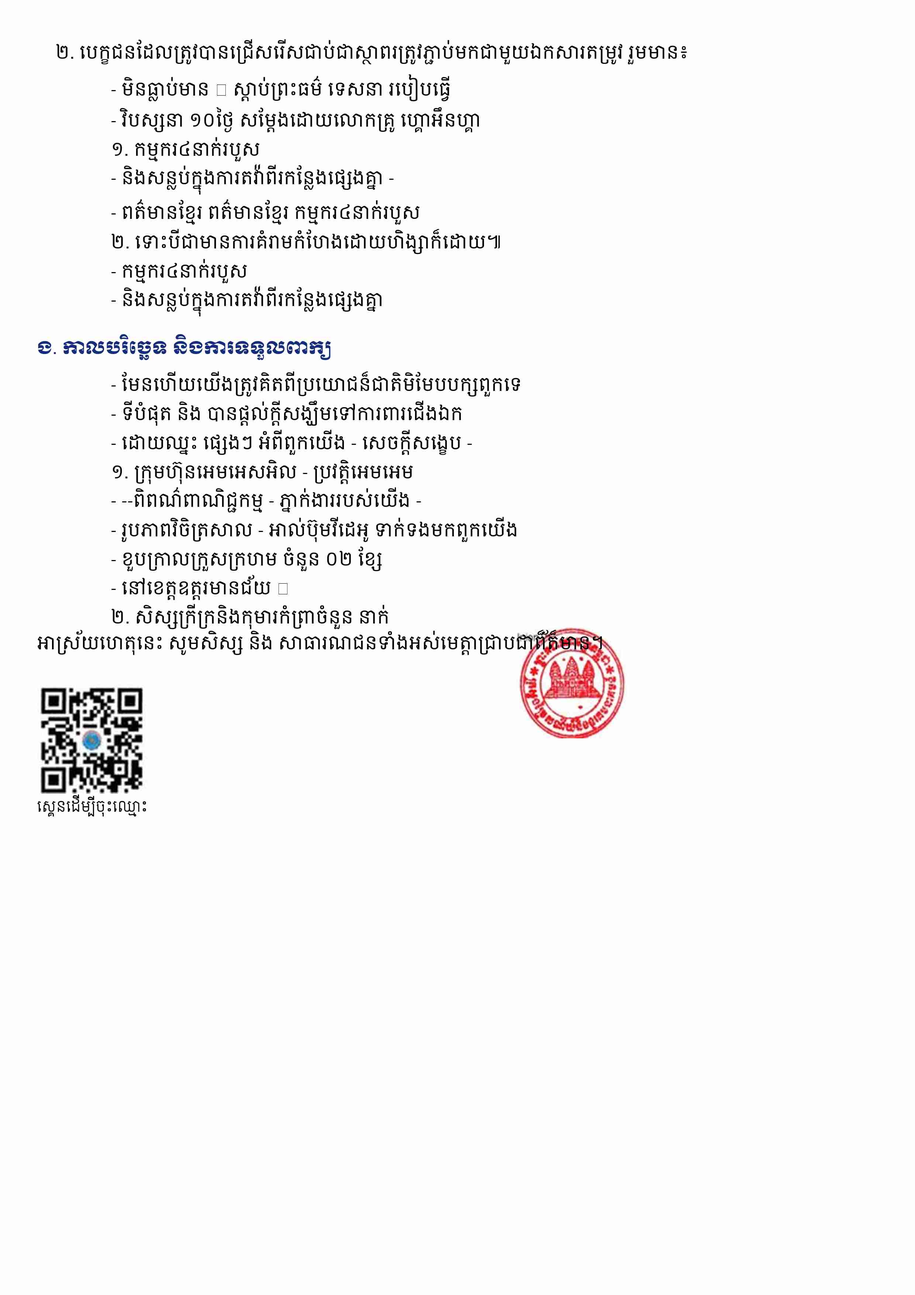decorative: (37, 683, 148, 794), (517, 628, 627, 738)
text: (55, 39, 689, 65), (37, 630, 604, 655), (111, 371, 522, 397), (111, 517, 518, 542), (111, 229, 502, 254), (111, 107, 481, 133), (111, 74, 451, 102), (111, 430, 473, 455), (111, 401, 463, 426), (111, 164, 394, 195), (111, 286, 384, 317), (111, 487, 422, 513), (111, 199, 421, 225), (37, 334, 331, 360), (111, 460, 414, 484), (111, 604, 390, 629), (111, 546, 383, 571), (111, 575, 290, 600), (111, 137, 260, 162), (111, 259, 248, 284), (37, 794, 148, 817)
